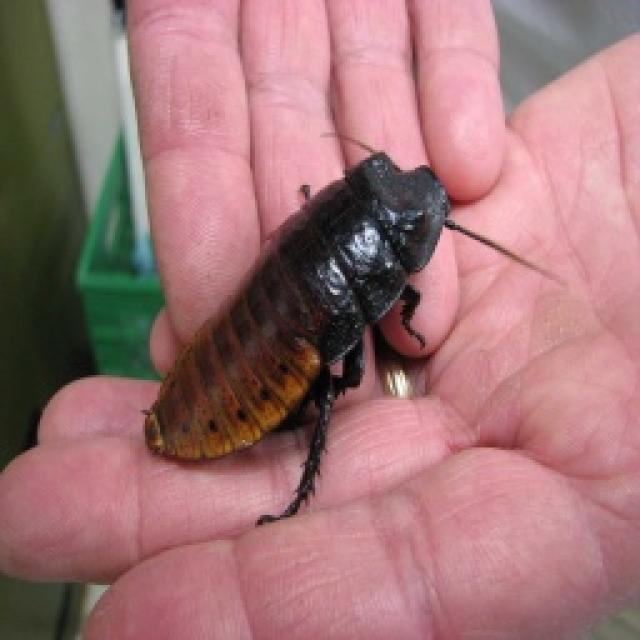cockroach: (137, 133, 565, 528)
